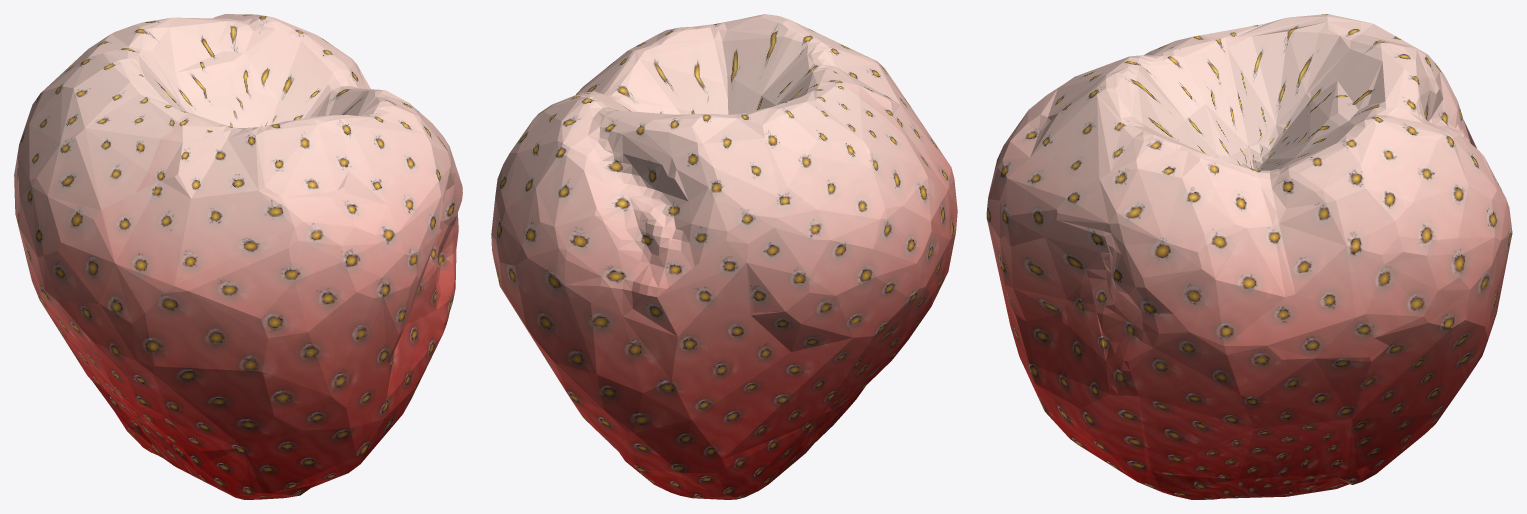
The picture shows the model from 3 angles, left to right: view 1: azimuth 30°, elevation 25°; view 2: azimuth 150°, elevation 25°; view 3: azimuth 270°, elevation 25°; orthographic projection. The views are drawn at different scales.
Visible parts, largest first — view 1: _003_Meshed; view 2: _003_Meshed; view 3: _003_Meshed.
Part boxes in pixels (box(x1,y1,x2,y2)): _003_Meshed: box(14, 14, 462, 499); _003_Meshed: box(491, 14, 957, 499); _003_Meshed: box(986, 14, 1512, 499).
Bounding box in the file's own units: 0.0971 × 0.1082 × 0.0983.
1 material, 1 textured.
